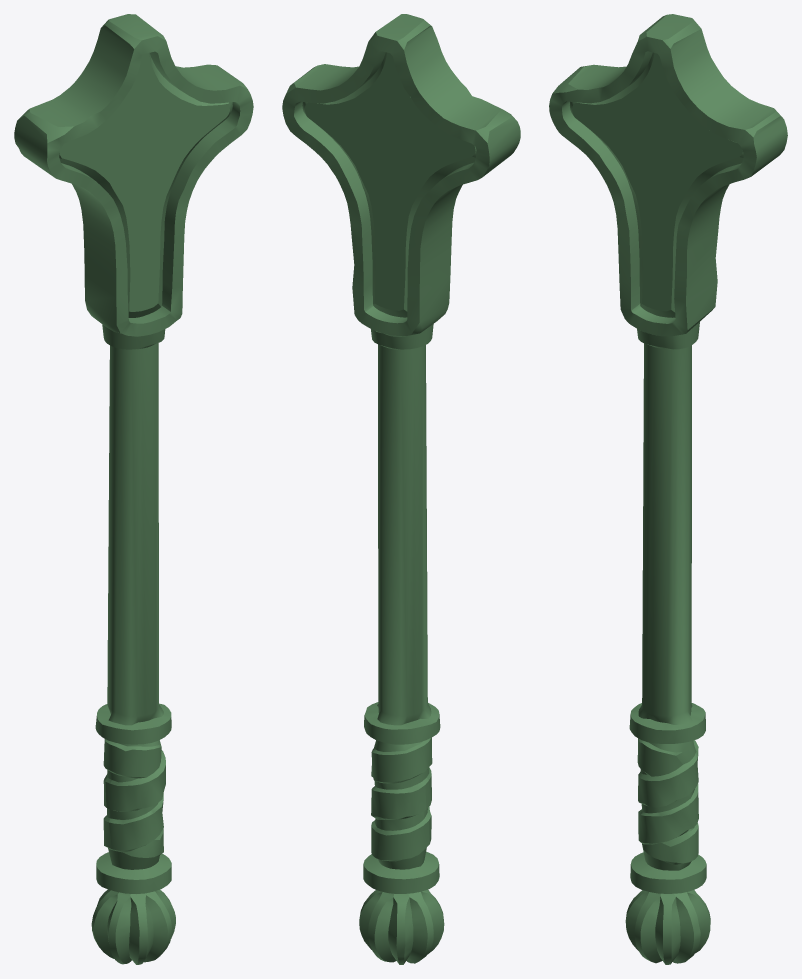
File: SM_Rune_Scepter_2.fbx
3 views of the same model, side by side, from view 1: azimuth 30°, elevation 25°; view 2: azimuth 150°, elevation 25°; view 3: azimuth 330°, elevation 25° (orthographic).
Parts seen in each view (by area): view 1: SM_Rune_Scepter_2; view 2: SM_Rune_Scepter_2; view 3: SM_Rune_Scepter_2.
Boxes of the visible parts, left/top/right/bottom form: SM_Rune_Scepter_2: left=14, top=14, right=253, bottom=964; SM_Rune_Scepter_2: left=282, top=14, right=520, bottom=964; SM_Rune_Scepter_2: left=549, top=14, right=787, bottom=964.
Size of the model in its own units: 0.1767 by 0.7581 by 0.0613.
